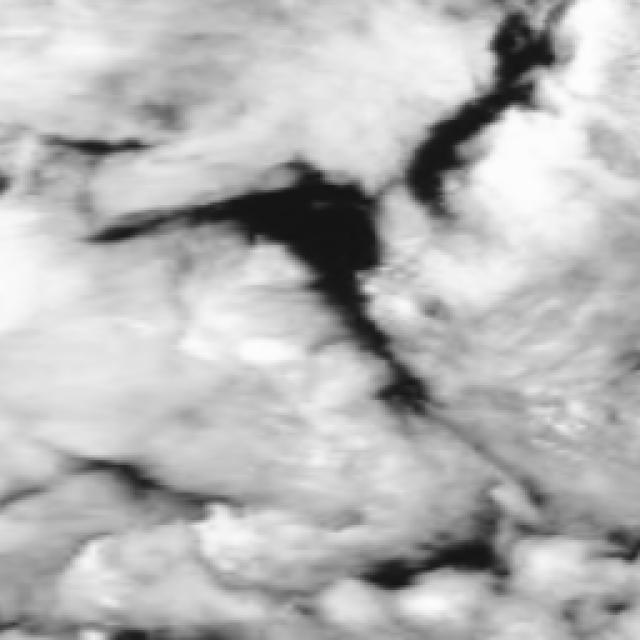CB: (3, 252, 286, 445), (478, 135, 639, 441)
